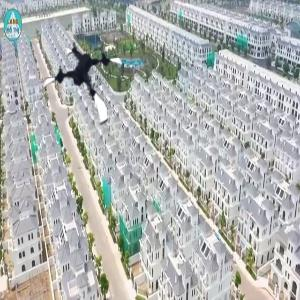drone: (41, 39, 132, 130)
